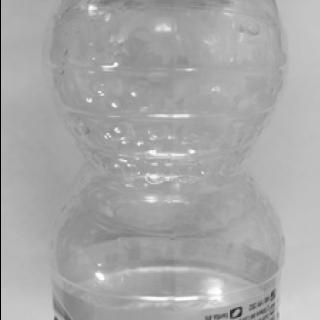plastic_bottles: (52, 1, 286, 320)
